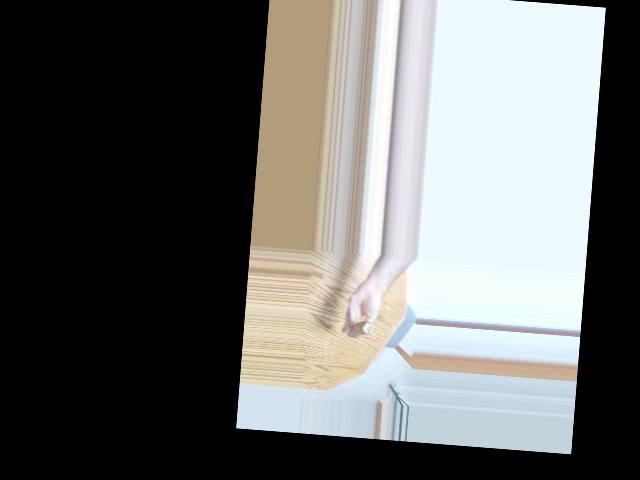sweet_potato: (345, 314, 378, 340)
